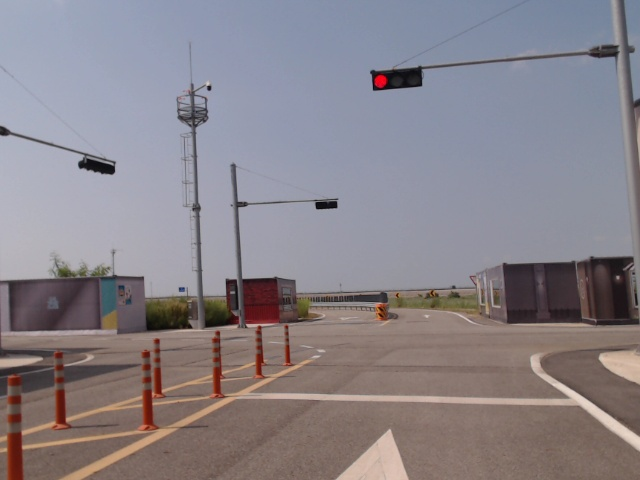red_3: (371, 66, 422, 91)
